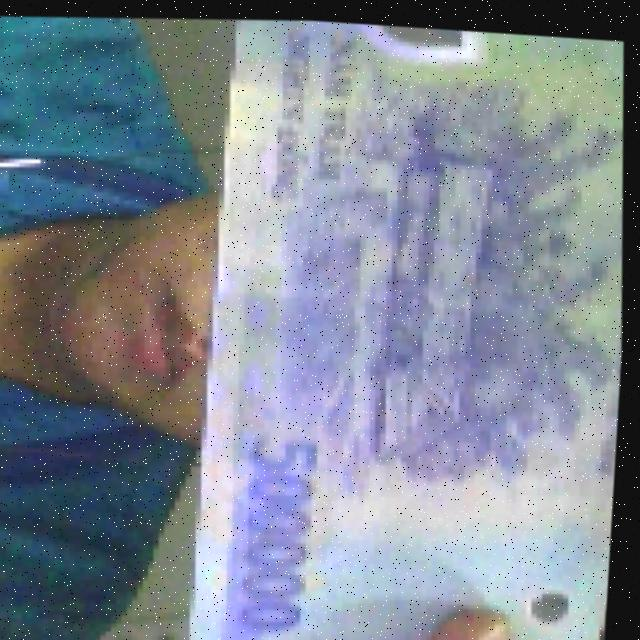500 000 VND: (158, 10, 640, 640)
